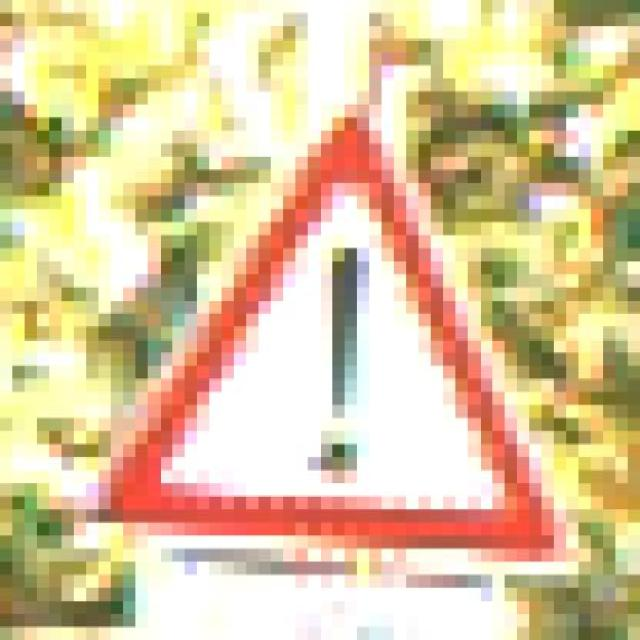Attention Please-: (61, 65, 578, 588)
